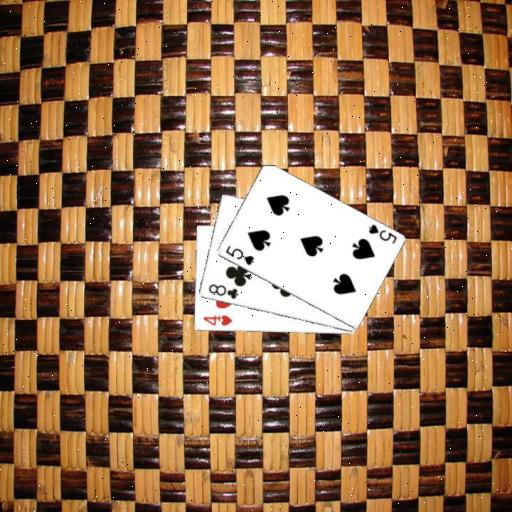4H: (200, 312, 234, 328)
5S: (222, 243, 256, 267), (365, 221, 399, 245)
8C: (205, 281, 240, 301)
